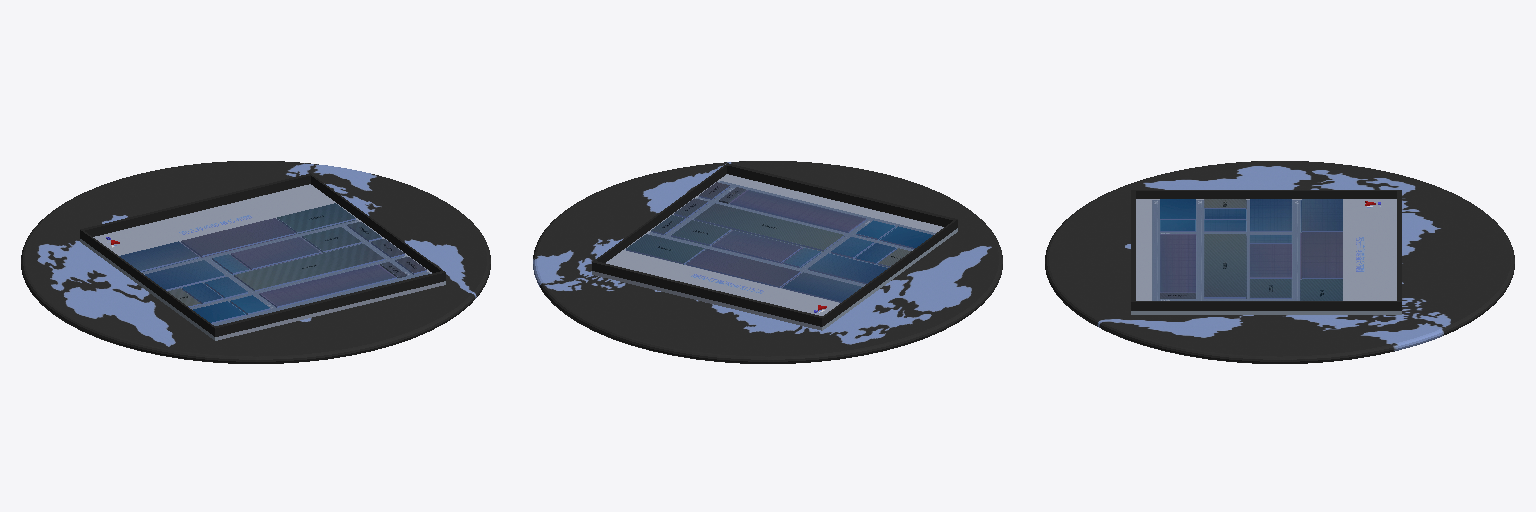
The picture shows the model from 3 angles: view 1: azimuth 30°, elevation 25°; view 2: azimuth 150°, elevation 25°; view 3: azimuth 270°, elevation 25°; orthographic projection.
Parts seen in each view (by area): view 1: ChamferCyl001, Box002, map, bar1, bar; view 2: ChamferCyl001, Box002, map, bar1, bar; view 3: ChamferCyl001, Box002, map, bar1, bar.
Part boxes in pixels (x1,y1,x2,y2): ChamferCyl001: (21,161,490,363); Box002: (119,203,426,323); map: (93,184,431,325); bar1: (80,173,445,336); bar: (80,239,445,340); ChamferCyl001: (533,161,1002,363); Box002: (626,182,932,302); map: (606,174,943,315); bar1: (592,163,957,326); bar: (592,228,957,330); ChamferCyl001: (1045,161,1514,363); Box002: (1160,199,1342,300); map: (1136,199,1396,300); bar1: (1131,190,1401,310); bar: (1131,311,1401,314).
Size of the model in its own units: 3746 by 178 by 3746.
5 materials, 2 textured.